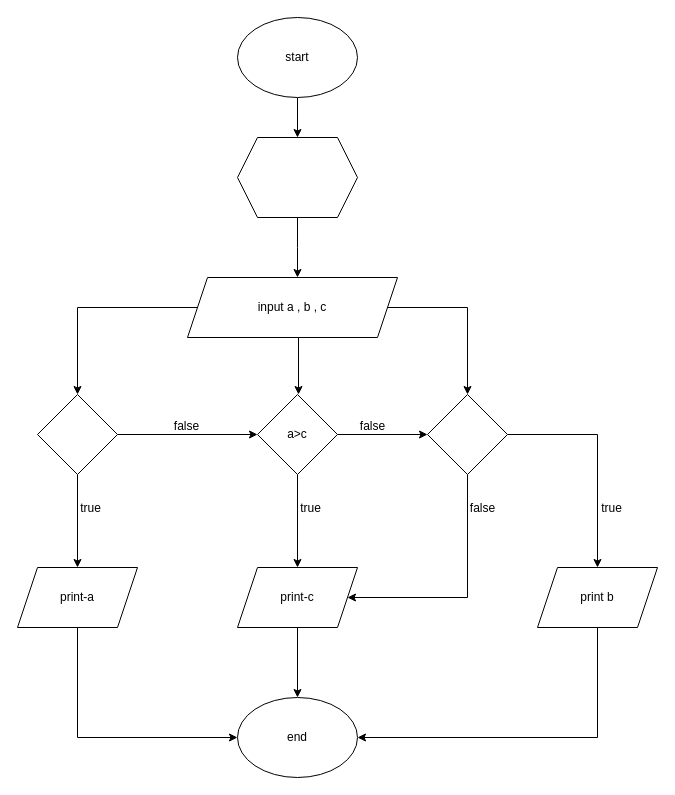
Image size: 675x795. Some labels were removed from this diagram. The centre of each missing label's shape, as x and y in pixels:
a>b: [77,434]
c>b: [467,434]
declare a b c: [297,177]
